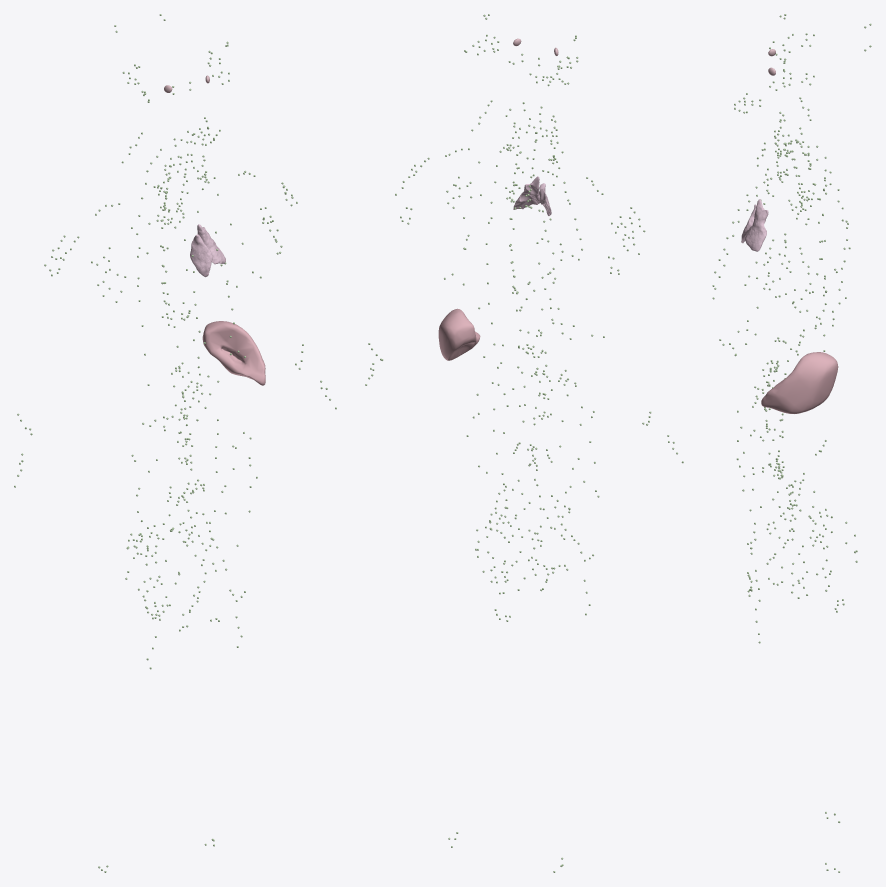
The model's file is lymphatic-system.glb.
3 renders of one model, left to right at view 1: azimuth 30°, elevation 25°; view 2: azimuth 150°, elevation 25°; view 3: azimuth 270°, elevation 25°, orthographic.
Parts seen in each view (by area): view 1: Spleen, Right_lobe_of_thymus; view 2: Spleen; view 3: Spleen, Left_lobe_of_thymus.
Boxes of the visible parts, bbox=[...] form: Spleen: bbox=[202, 321, 265, 385]; Right_lobe_of_thymus: bbox=[190, 234, 212, 277]; Spleen: bbox=[438, 308, 480, 360]; Spleen: bbox=[761, 352, 838, 413]; Left_lobe_of_thymus: bbox=[745, 199, 768, 251].
Bounding box in the file's own units: 45.23 × 111 × 19.63.
